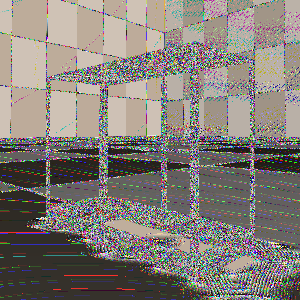Rack: (45, 36, 255, 283)
